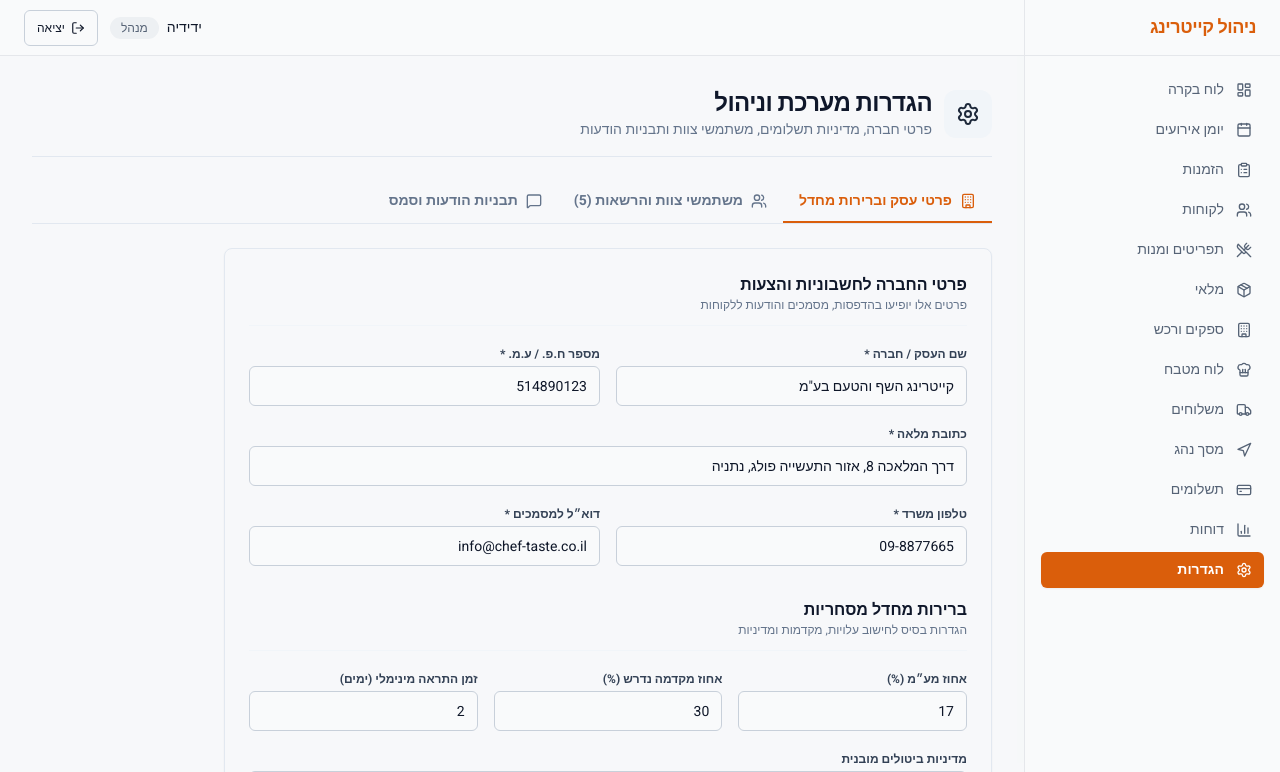
Test: S16 Settings & System Administration › navigates to staff users directory and opens create user modal
Check: the heading "הגדרות מערכת וניהול" is shown, box [714,86,932,121]
Click the button "משתמשי צוות והרשאות (5)" at (670, 202), box [558,181,783,223]
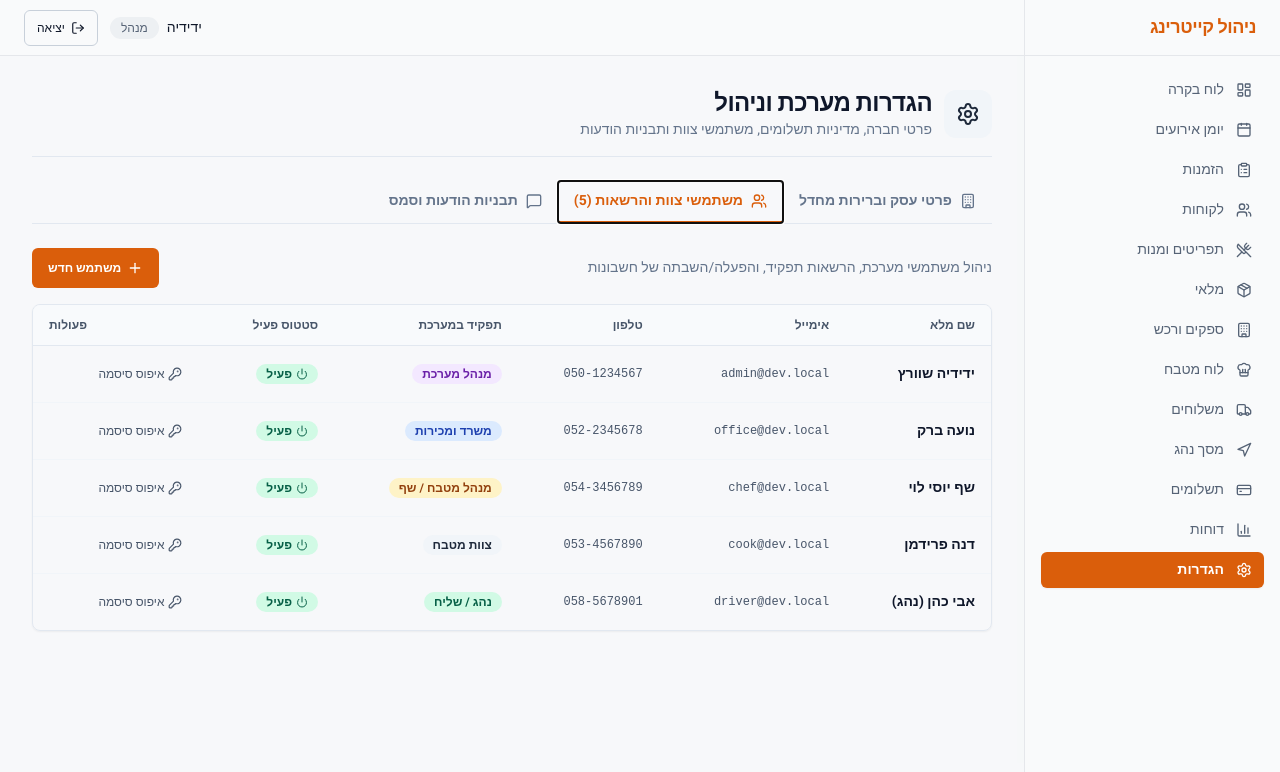
Check: the text "ידידיה שוורץ" is shown, box [845,346,991,402]
Check: the text "אבי כהן (נהג)" is shown, box [845,574,991,630]
Note: Open add new user modal
Click the button "משתמש חדש" at (96, 268), box [32,248,159,288]
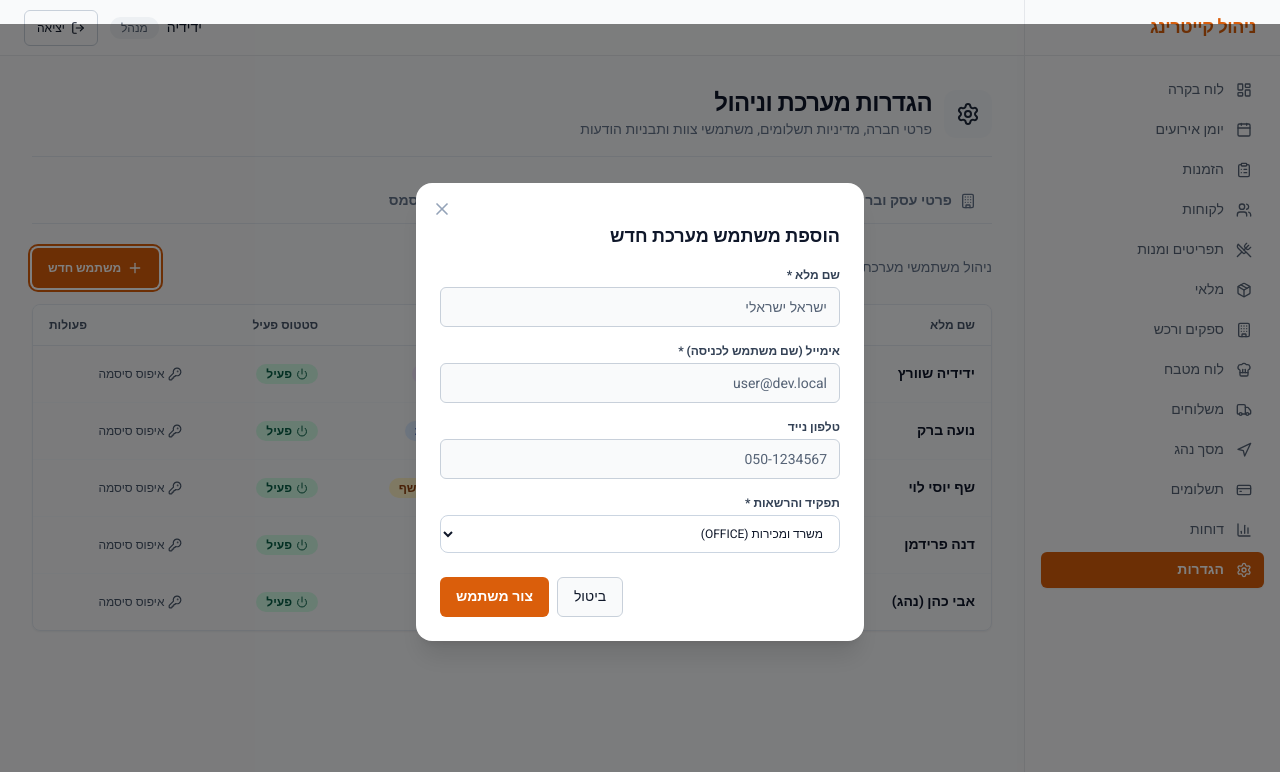
Check: the heading "הוספת משתמש מערכת חדש" is shown, box [610,223,840,250]
Check: the field with placeholder "ישראל ישראלי" is shown, box [440,287,840,327]
Check: the field with placeholder "user@dev.local" is shown, box [440,363,840,403]
